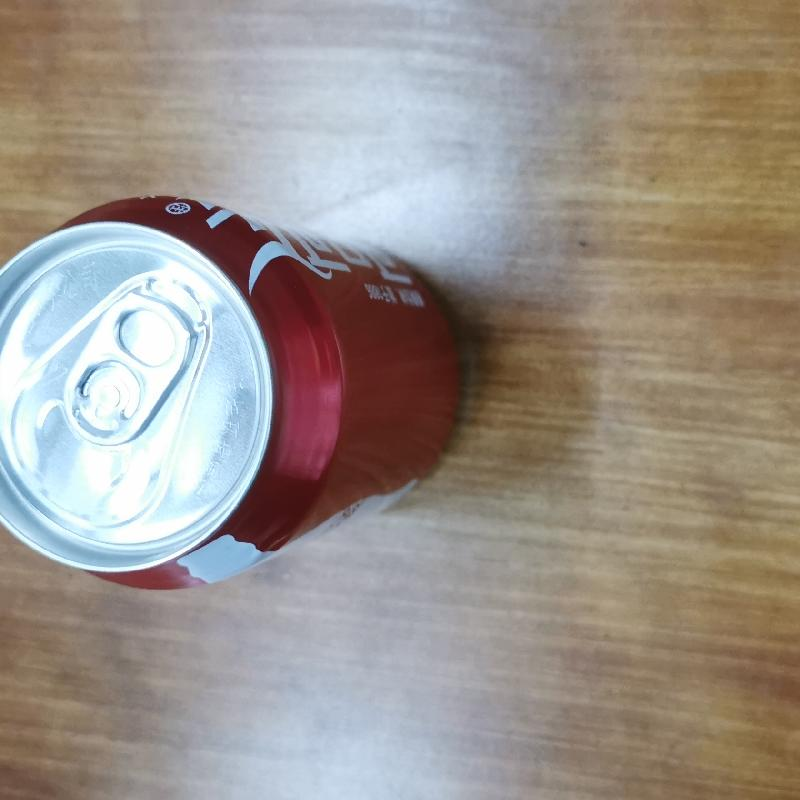cans: (5, 188, 470, 600)
